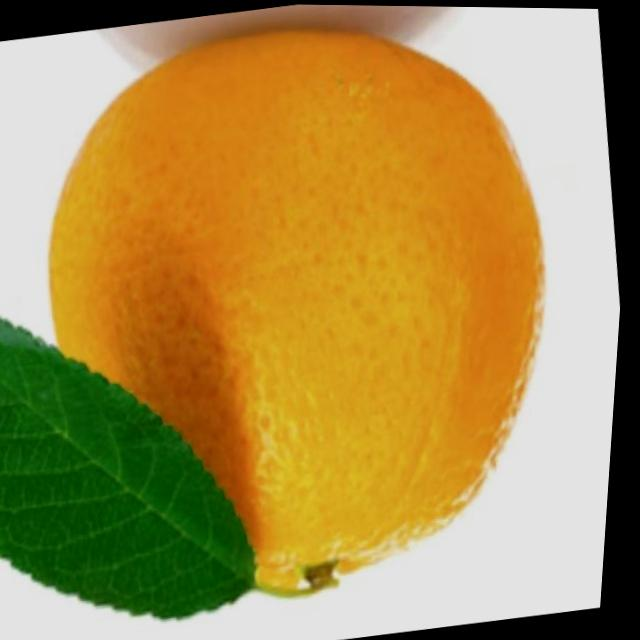Orange: (0, 0, 606, 634)
